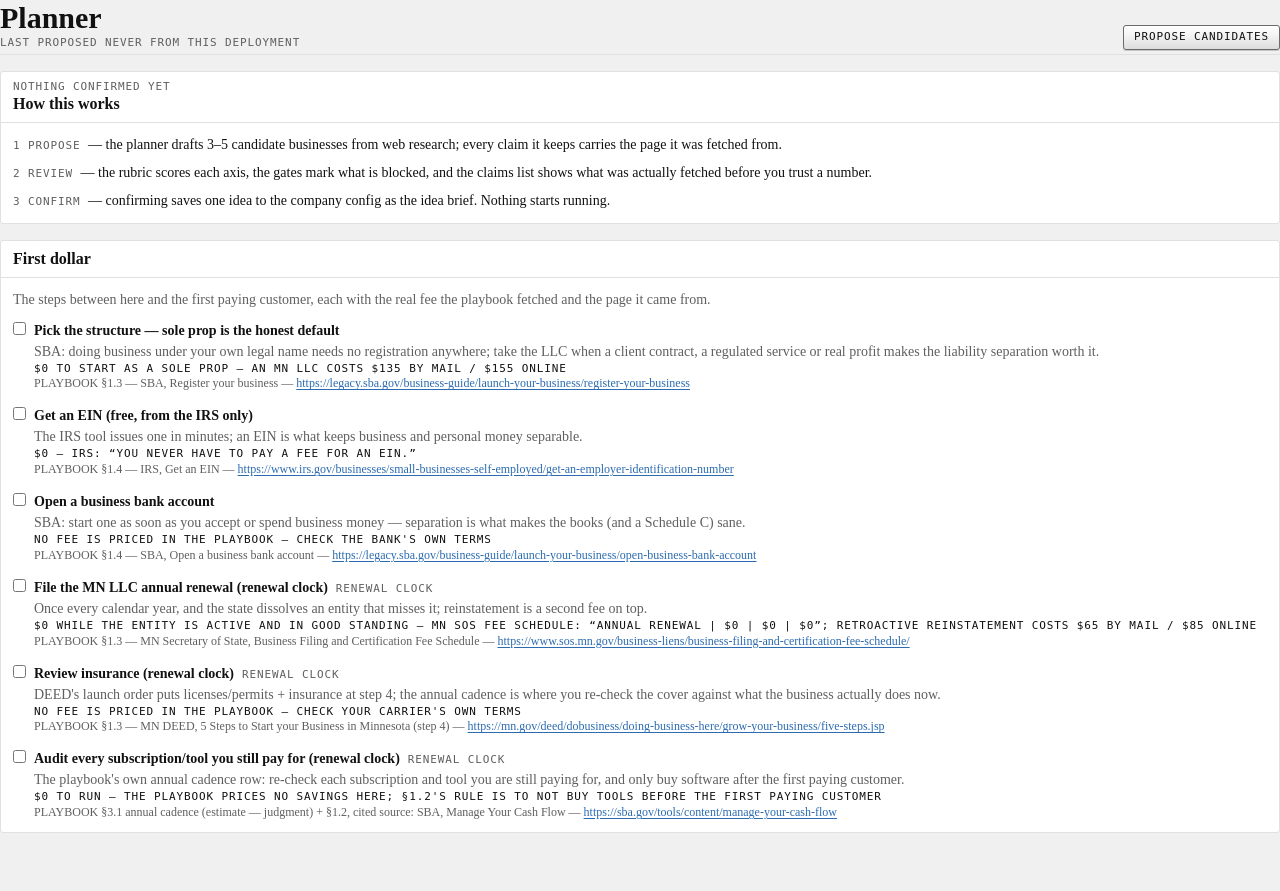
Test: PlannerPage — propose › shows a CM ≤ 0 candidate as a flag chip — not hidden, not a red error
Click the button with test id "planner-propose" at x=1202, y=37, box left=1123, top=25, right=1279, bottom=50
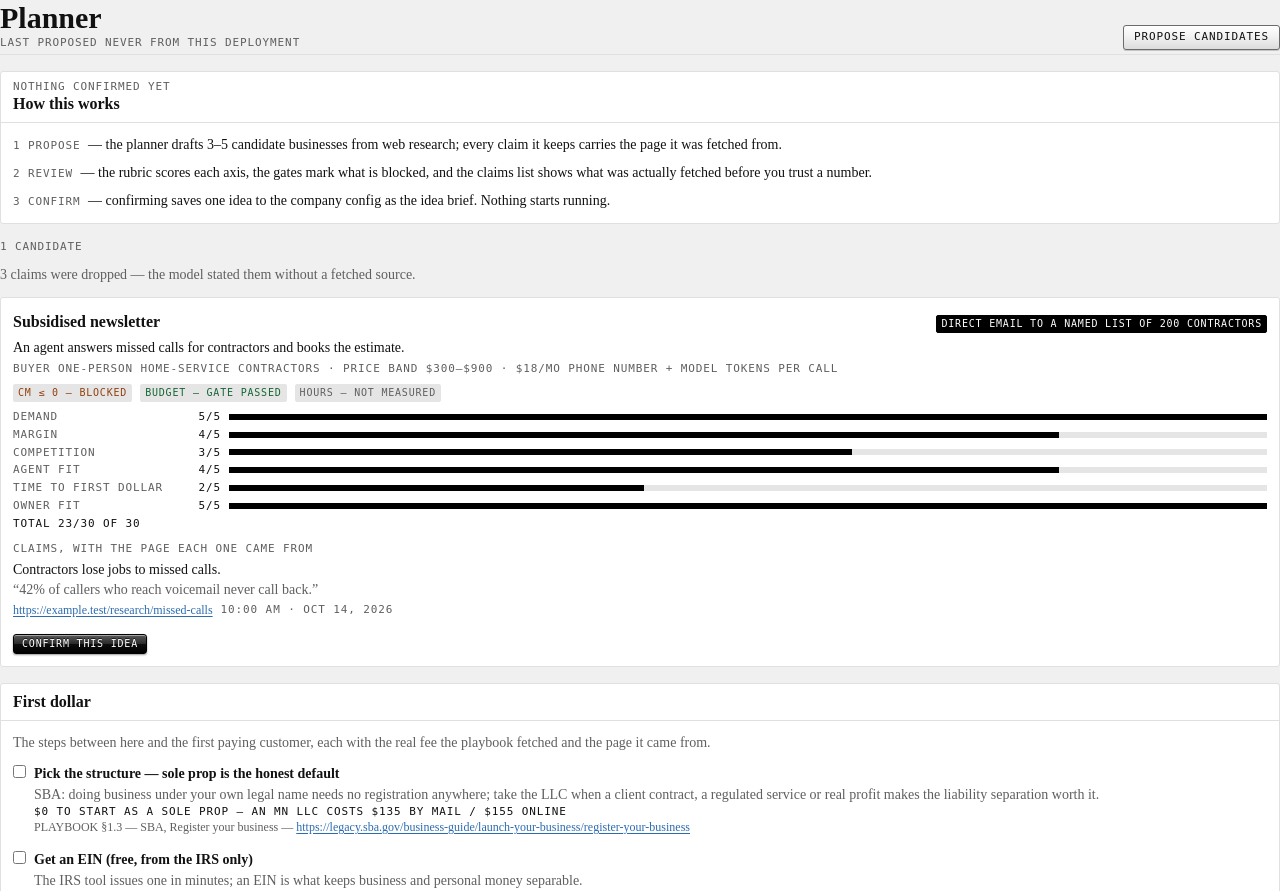
Result: the text with test id "gate-cm" reads "CM ≤ 0 — blocked" at left=18, top=387, right=127, bottom=398
Result: the button "Confirm this idea" is shown at left=13, top=634, right=147, bottom=654
Result: the text with test id "planner-claims-unverified" reads "3 claims were dropped — the model stated them without a fetched source." at left=0, top=267, right=416, bottom=282
